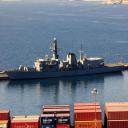Fragata: (4, 34, 126, 83)
